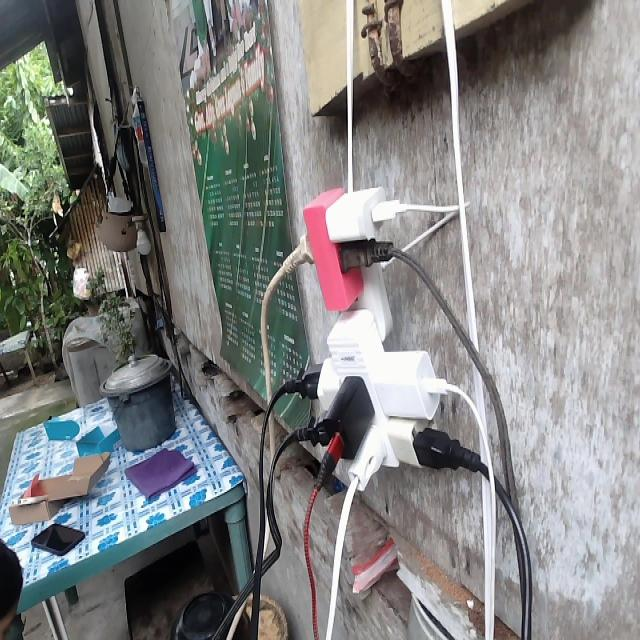-: (288, 184, 445, 501)
